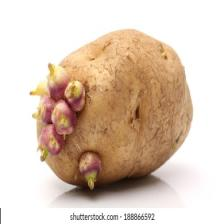Sprouted potato: (32, 27, 188, 196)
